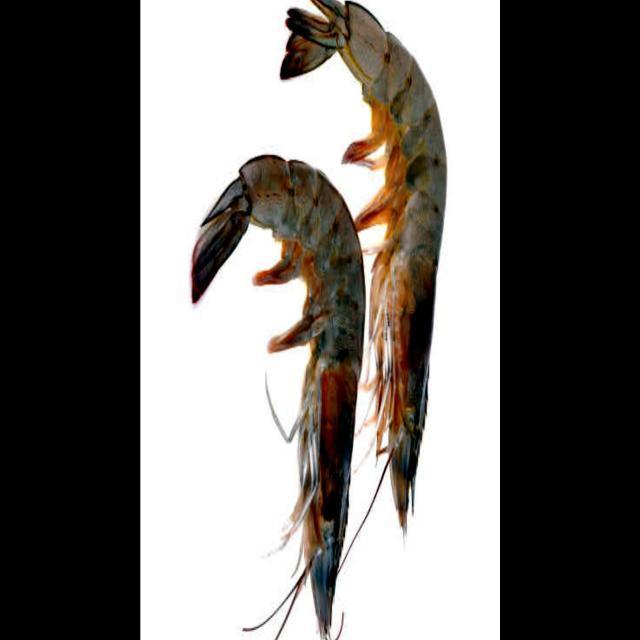shrimp: (281, 0, 446, 530), (193, 158, 365, 635)
